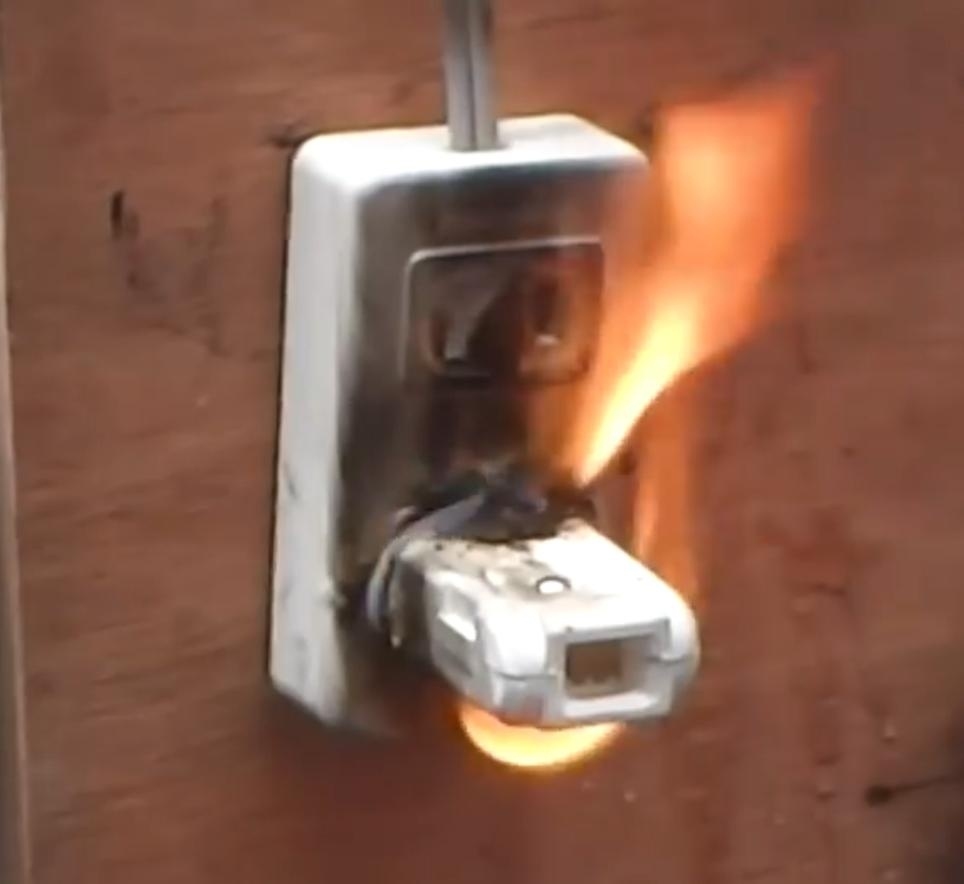fire: (565, 288, 711, 489), (454, 690, 626, 770)
